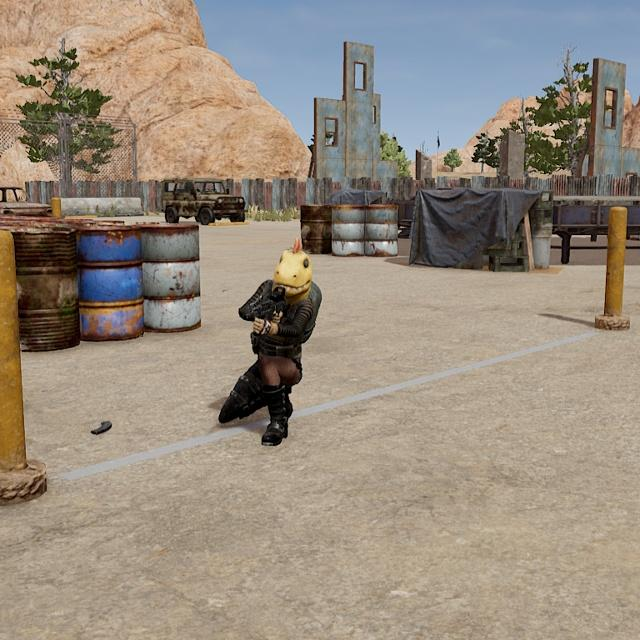head: (272, 249, 314, 299)
people: (220, 249, 322, 448)
